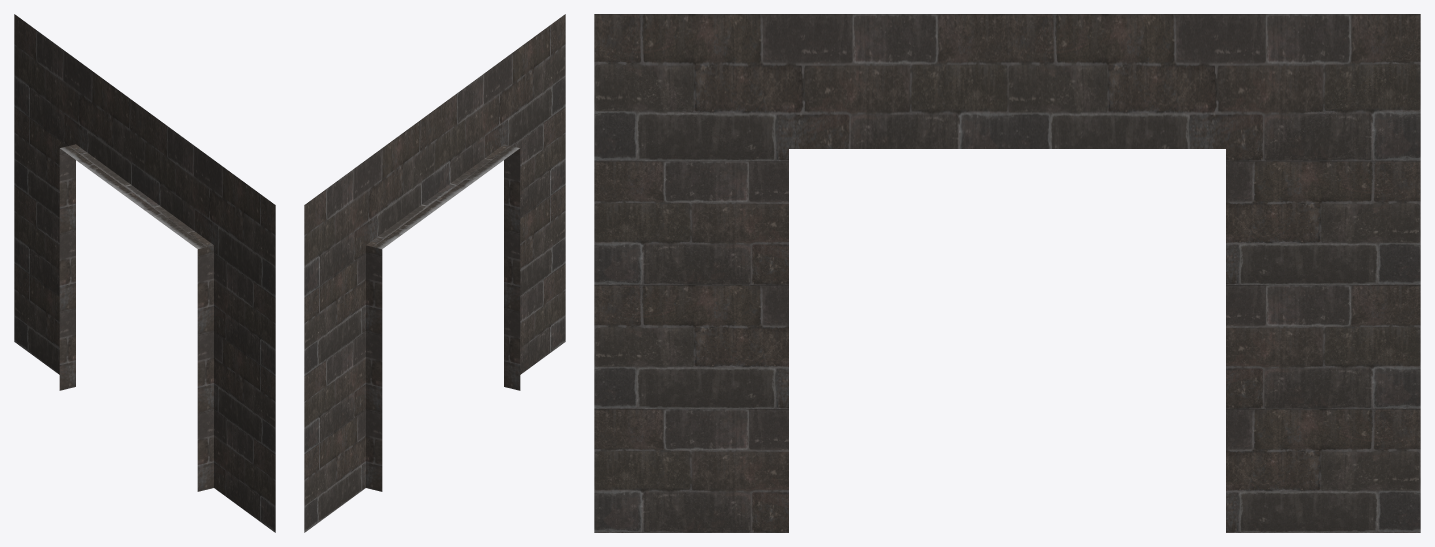
Rendered from Psychiatric_Ward_Basement_Upper_Wall_4m_Door_A.glb.
3 renders of one model, left to right at view 1: azimuth 30°, elevation 25°; view 2: azimuth 150°, elevation 25°; view 3: azimuth 270°, elevation 25°, orthographic. The views are drawn at different scales.
Visible parts, largest first — view 1: Psychiatric_Ward_Basement_Upper_Wall_4m_Door_A; view 2: Psychiatric_Ward_Basement_Upper_Wall_4m_Door_A; view 3: Psychiatric_Ward_Basement_Upper_Wall_4m_Door_A.
Part boxes in pixels (left/top/right/bottom): Psychiatric_Ward_Basement_Upper_Wall_4m_Door_A: left=14, top=14, right=275, bottom=532; Psychiatric_Ward_Basement_Upper_Wall_4m_Door_A: left=304, top=14, right=565, bottom=532; Psychiatric_Ward_Basement_Upper_Wall_4m_Door_A: left=594, top=14, right=1420, bottom=532.
Bounding box in the file's own units: 0.1437 × 2.77 × 4.
1 material, 1 textured.
